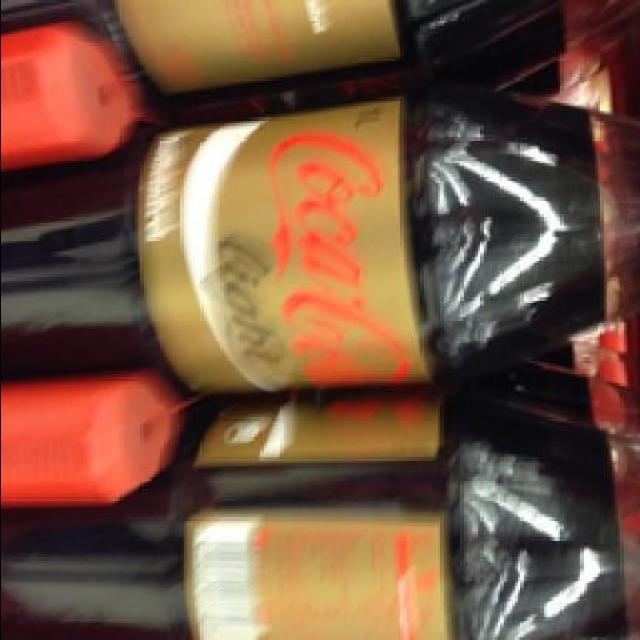Coke: (3, 83, 637, 391), (4, 388, 638, 638)
